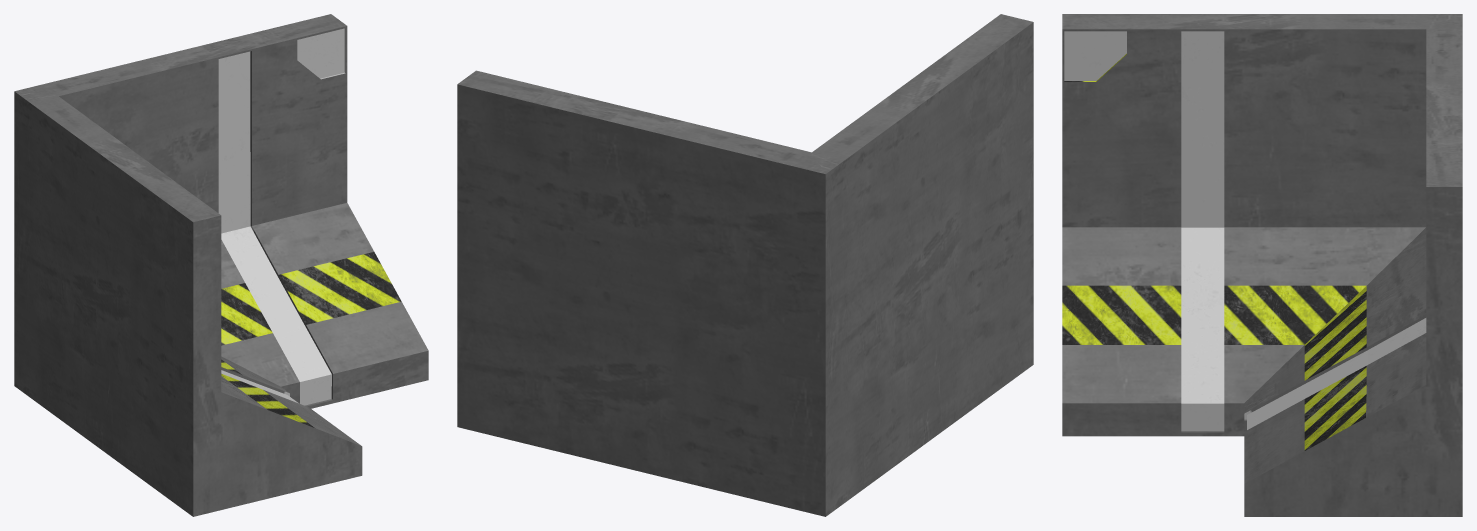
The model's file is Foundation Wall L.fbx.
3 views of the same model, side by side, from view 1: azimuth 30°, elevation 25°; view 2: azimuth 150°, elevation 25°; view 3: azimuth 270°, elevation 25° (orthographic). The views are drawn at different scales.
Visible parts, largest first — view 1: Cube.005; view 2: Cube.005; view 3: Cube.005.
Part boxes in pixels (x1,y1,x2,y2): Cube.005: (14, 14, 428, 516); Cube.005: (457, 14, 1033, 516); Cube.005: (1062, 14, 1462, 516).
Bounding box in the file's own units: 112 × 99.98 × 110.
Materials: 1 (1 with a texture image).
